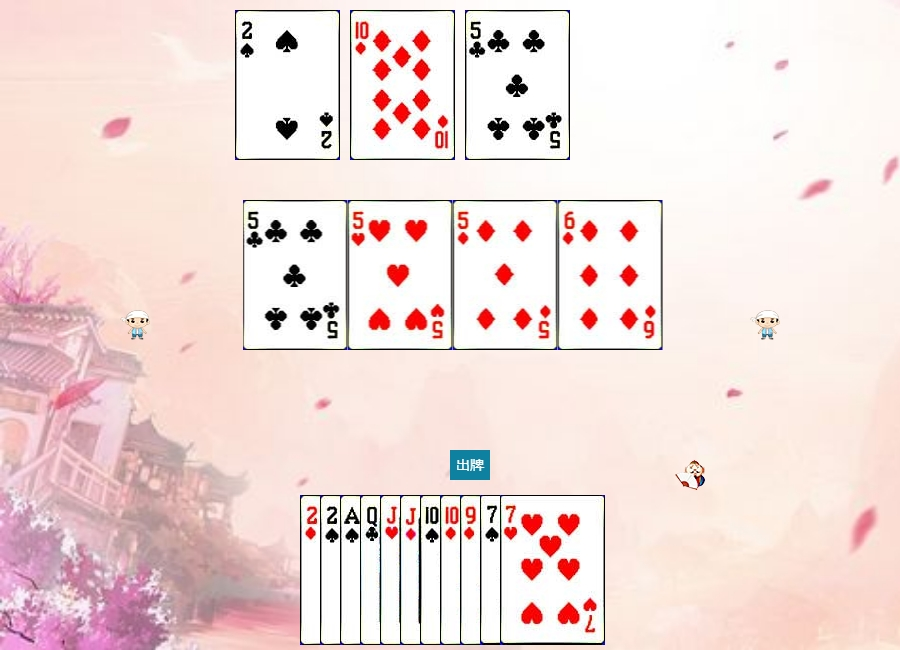10~1: (350, 10, 455, 160), (440, 495, 545, 645)
10~4: (420, 495, 525, 645)
11~1: (400, 495, 505, 645)
11~3: (380, 495, 485, 645)
12~2: (360, 495, 465, 645)
14~4: (340, 495, 445, 645)
15~1: (300, 495, 405, 645)
15~4: (235, 10, 340, 160), (320, 495, 425, 645)
5~1: (453, 200, 558, 350)
5~2: (465, 10, 570, 160), (243, 200, 348, 350)
5~3: (348, 200, 453, 350)
6~1: (558, 200, 663, 350)
7~3: (500, 495, 605, 645)
7~4: (480, 495, 585, 645)
9~1: (460, 495, 565, 645)
